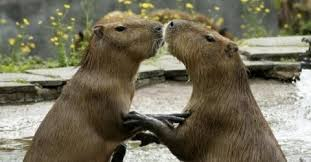capivara: (20, 19, 164, 162), (164, 19, 289, 162)
